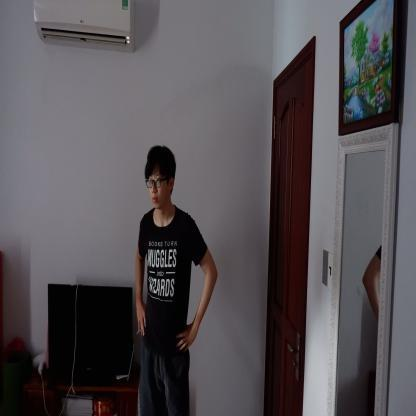cigarette: (136, 328, 142, 336)
person: (134, 143, 219, 415)
